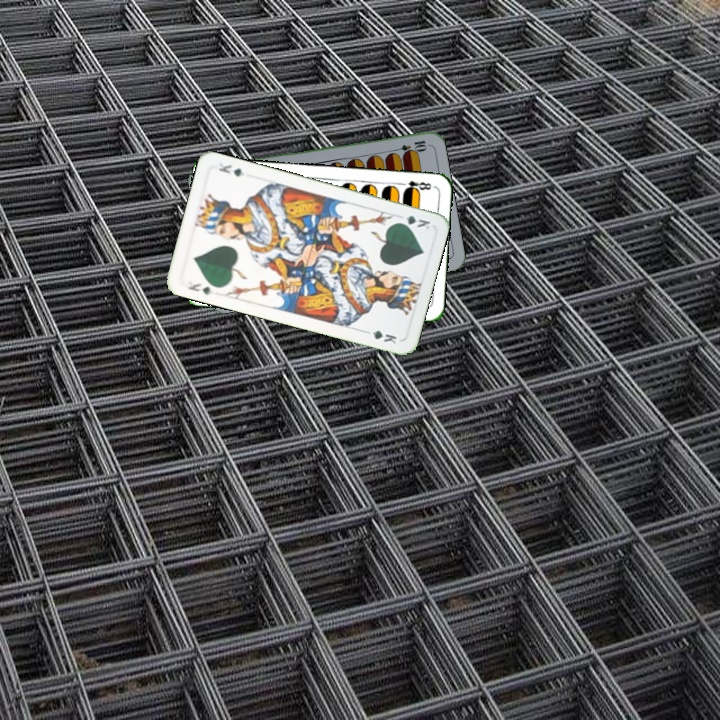E10: (389, 136, 429, 156)
E8: (395, 177, 433, 195)
GK: (393, 211, 433, 232), (184, 278, 216, 297)
